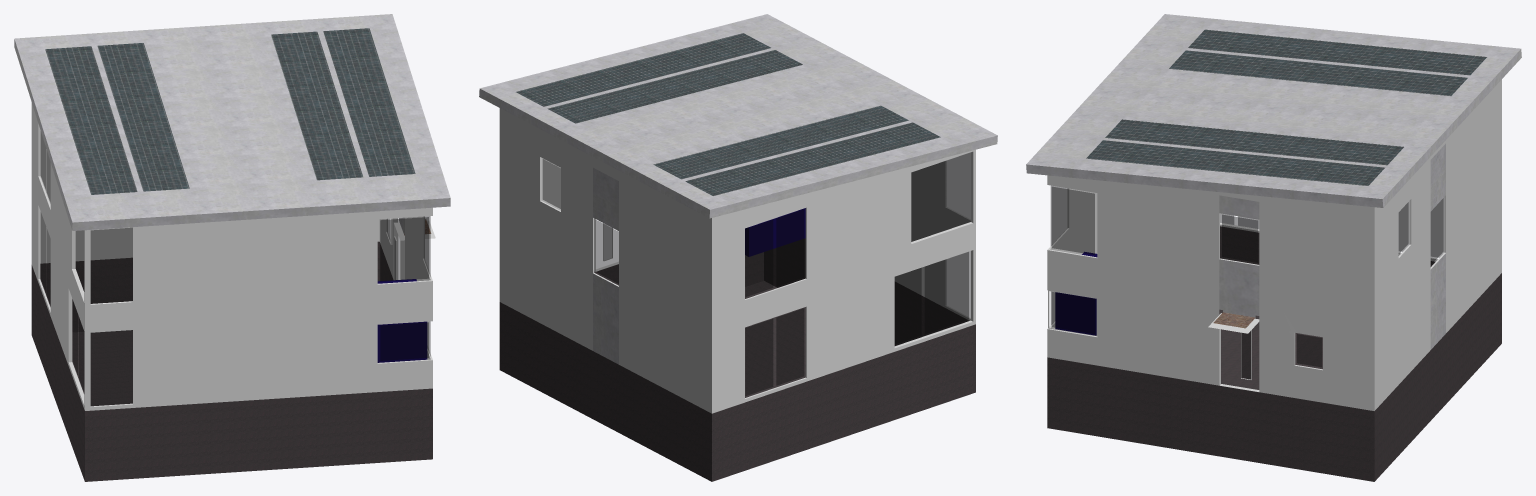
The picture shows the model from 3 angles, left to right: view 1: azimuth 30°, elevation 25°; view 2: azimuth 150°, elevation 25°; view 3: azimuth 270°, elevation 25°; orthographic projection. The views are drawn at different scales.
Parts seen in each view (by area): view 1: Mesh 67, Mesh 58, Mesh 32, Mesh 75, Mesh 50, Cube; view 2: Mesh 67, Mesh 32, Mesh 58, Mesh 75, Mesh 50, Cube; view 3: Mesh 67, Mesh 58, Mesh 32, Mesh 75, Mesh 50, Cube.
Boxes of the visible parts, x1=… form: Mesh 67: x1=31, y1=103, x2=435, y2=410; Mesh 58: x1=14, y1=14, x2=450, y2=234; Mesh 32: x1=31, y1=241, x2=432, y2=481; Mesh 75: x1=45, y1=28, x2=415, y2=194; Mesh 50: x1=41, y1=133, x2=430, y2=405; Cube: x1=377, y1=279, x2=427, y2=362; Mesh 67: x1=499, y1=108, x2=975, y2=413; Mesh 32: x1=499, y1=238, x2=975, y2=481; Mesh 58: x1=479, y1=14, x2=997, y2=364; Mesh 75: x1=516, y1=33, x2=940, y2=195; Mesh 50: x1=543, y1=152, x2=970, y2=395; Cube: x1=745, y1=208, x2=805, y2=256; Mesh 67: x1=1047, y1=79, x2=1501, y2=410; Mesh 58: x1=1026, y1=14, x2=1521, y2=349; Mesh 32: x1=1047, y1=226, x2=1501, y2=481; Mesh 75: x1=1086, y1=29, x2=1486, y2=185; Mesh 50: x1=1051, y1=186, x2=1443, y2=379; Cube: x1=1055, y1=252, x2=1097, y2=335.
Size of the model in its own units: 12.68 by 8.22 by 12.7.
Materials: 8 (6 with a texture image).
